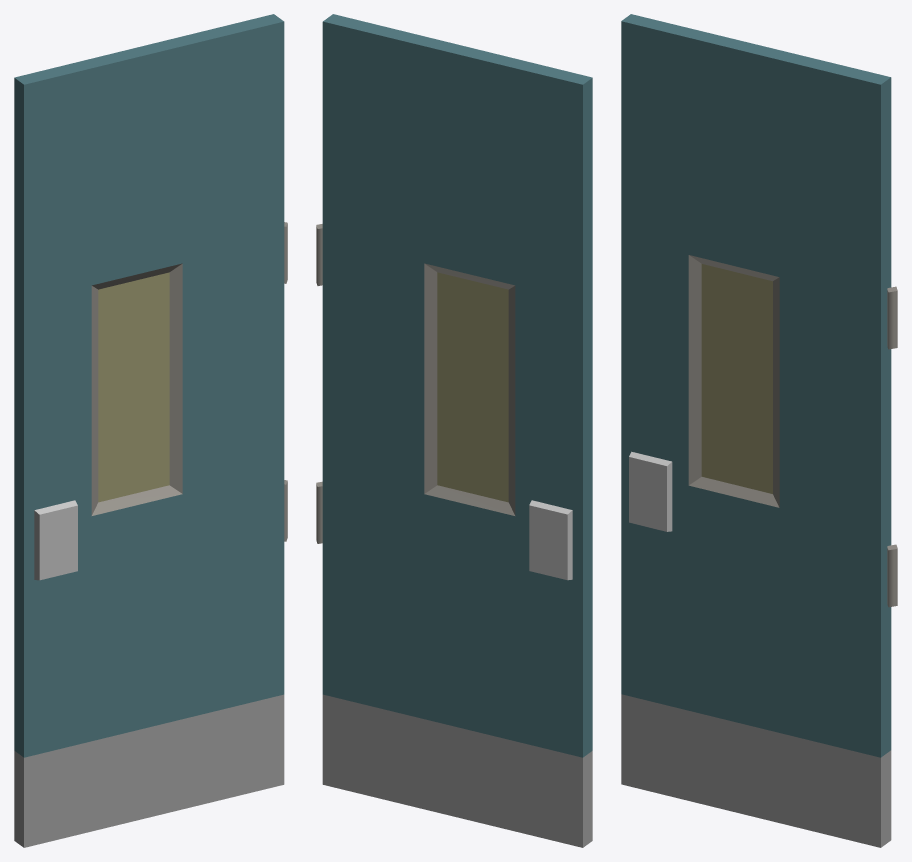
Rendered from SM_Door_B2_Left.FBX.
The picture shows the model from 3 angles, left to right: view 1: azimuth 30°, elevation 25°; view 2: azimuth 150°, elevation 25°; view 3: azimuth 330°, elevation 25°; orthographic projection.
Parts seen in each view (by area): view 1: SM_Door_B2_Left; view 2: SM_Door_B2_Left; view 3: SM_Door_B2_Left.
Boxes of the visible parts, left/top/right/bottom form: SM_Door_B2_Left: left=14, top=14, right=287, bottom=847; SM_Door_B2_Left: left=316, top=14, right=592, bottom=847; SM_Door_B2_Left: left=621, top=14, right=897, bottom=847.
Bounding box in the file's own units: 88.26 × 10.04 × 238.
